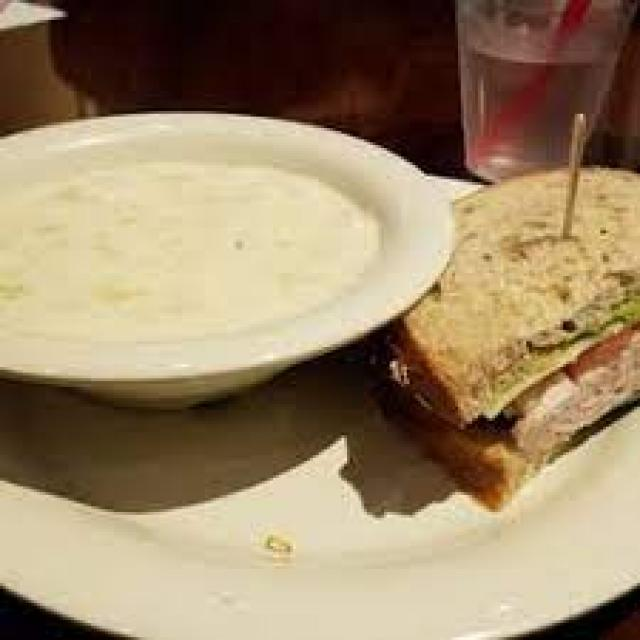Sandwich: (424, 136, 637, 484)
